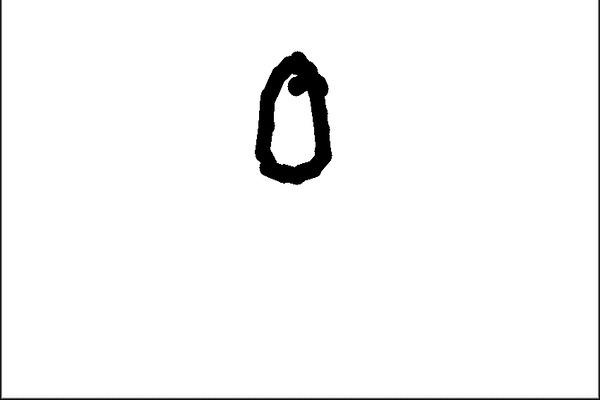O: (235, 48, 352, 189)
